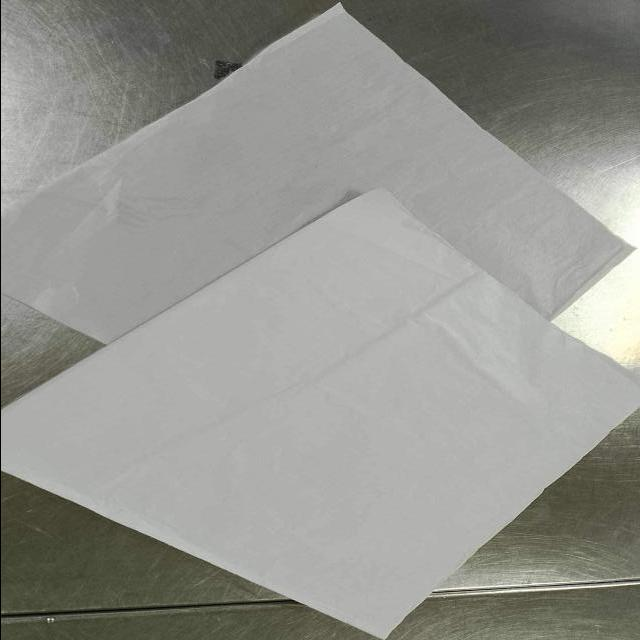Infectious: (2, 187, 640, 639), (2, 2, 638, 349)
Sharps: (213, 60, 243, 81)
